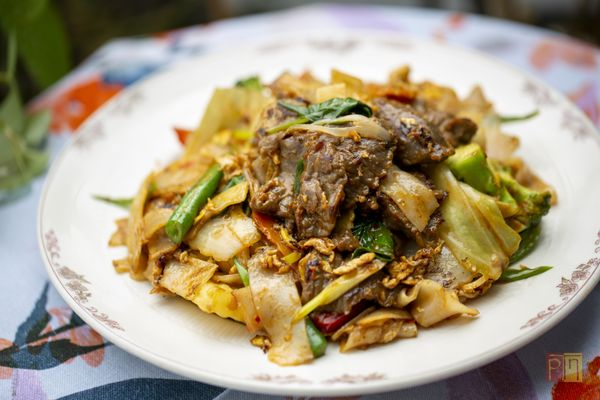curry: (351, 221, 396, 259)
sushi: (38, 26, 559, 389)
